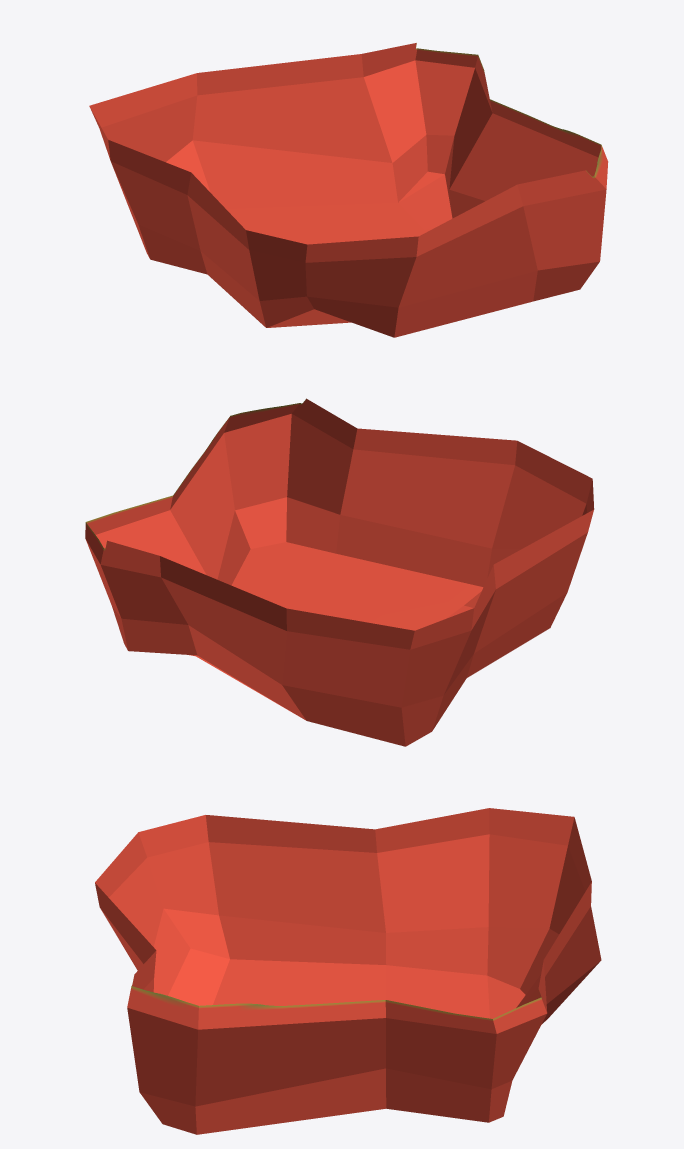
The model's file is platformFinish.fbx.
3 renders of one model, top to bottom at view 1: azimuth 30°, elevation 25°; view 2: azimuth 150°, elevation 25°; view 3: azimuth 270°, elevation 25°, orthographic. The views are drawn at different scales.
Visible parts, largest first — view 1: Cube001; view 2: Cube001; view 3: Cube001.
Part boxes in pixels (x1,y1,x2,y2): Cube001: (89,43,608,337); Cube001: (85,398,594,746); Cube001: (95,808,601,1134).
Size of the model in its own units: 264 by 83.14 by 271.
Materials: 1 (1 with a texture image).
